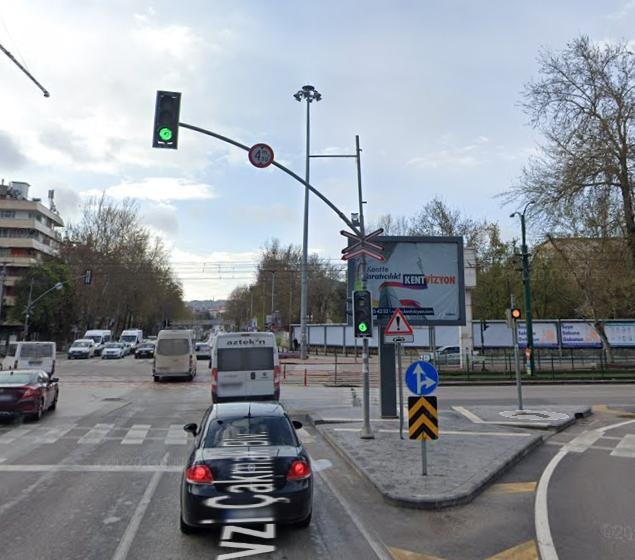greenlight: (156, 91, 178, 141), (354, 290, 372, 333)
